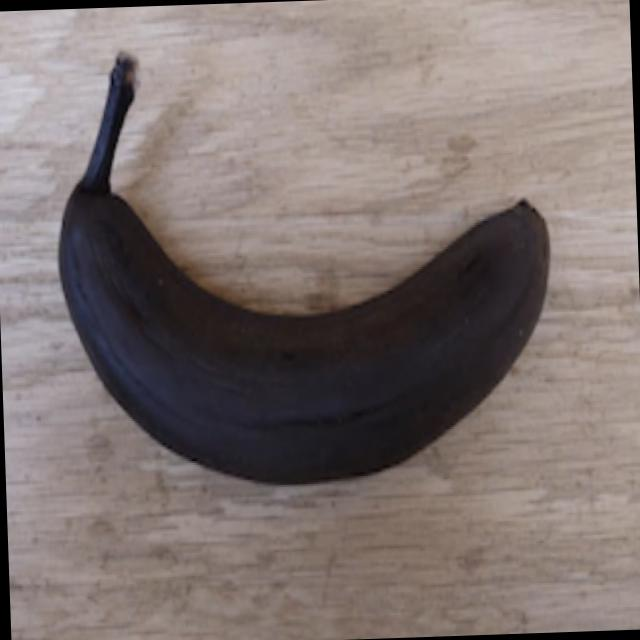rotten-banana: (51, 111, 562, 492)
